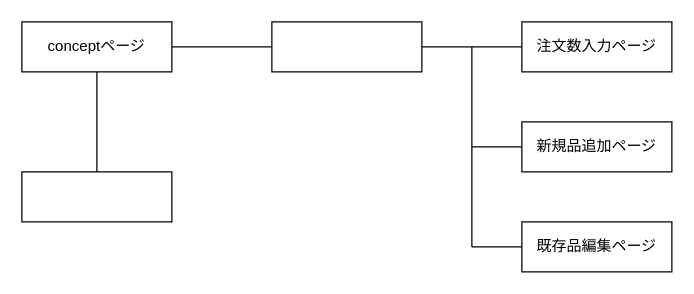
Some shapes in this 694 by 294 pixel diagram are drawn without their labels. Each missing label, with the centre of its shape:
"井澤金属ページ" goes at point (346, 46).
"生産数入力ページ" goes at point (96, 196).
